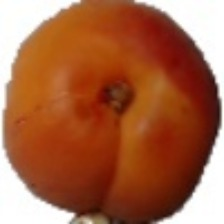apricot: (39, 17, 188, 182)
